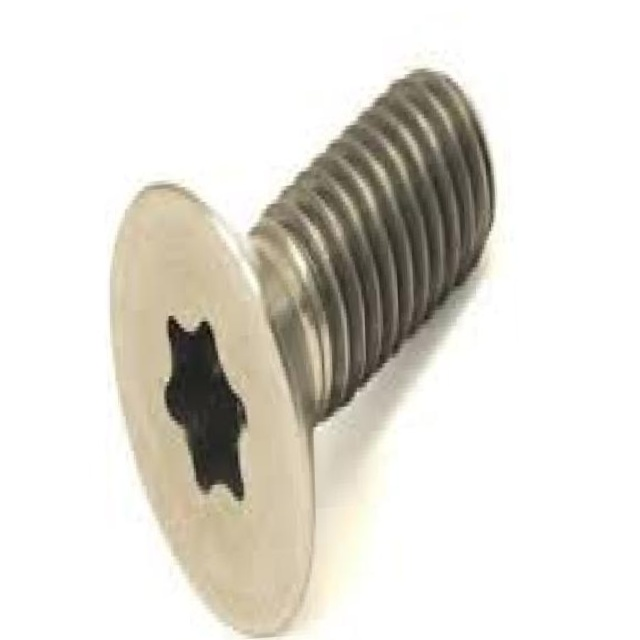torx: (107, 166, 318, 640)
